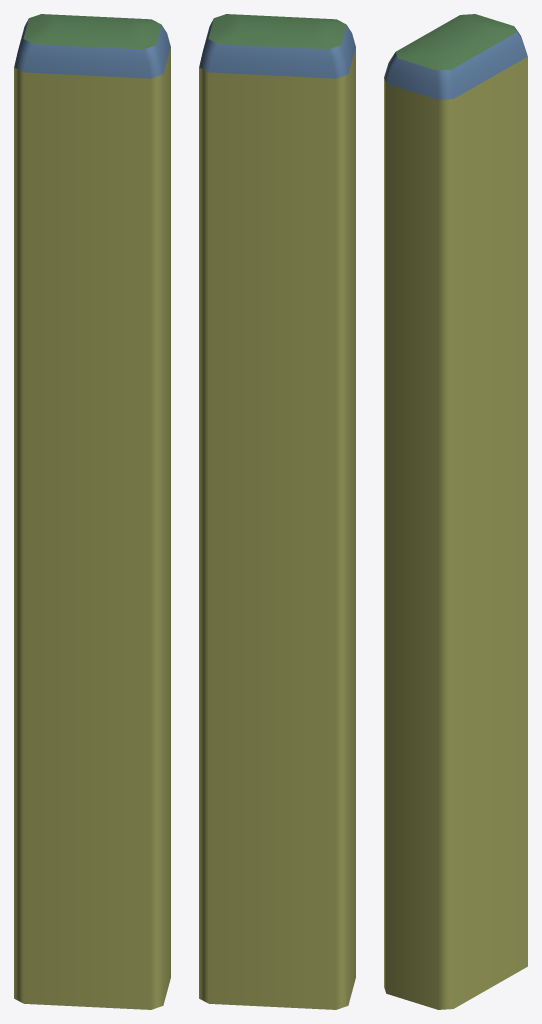
File: Mini_Plat10.fbx
3 renders of one model, left to right at view 1: azimuth 30°, elevation 25°; view 2: azimuth 210°, elevation 25°; view 3: azimuth 270°, elevation 25°, orthographic. The views are drawn at different scales.
Parts seen in each view (by area): view 1: Mini_Plat6, Wall7, Ground9; view 2: Mini_Plat6, Wall7, Ground9; view 3: Mini_Plat6, Wall7, Ground9.
Part boxes in pixels (x1,y1,x2,y2): Mini_Plat6: [14, 47, 170, 1009]; Wall7: [14, 19, 170, 78]; Ground9: [23, 14, 161, 49]; Mini_Plat6: [199, 47, 355, 1009]; Wall7: [199, 19, 355, 78]; Ground9: [208, 14, 346, 49]; Mini_Plat6: [384, 56, 527, 1009]; Wall7: [384, 27, 527, 99]; Ground9: [395, 14, 516, 70].
Size of the model in its own units: 2172 by 14394 by 1997.
